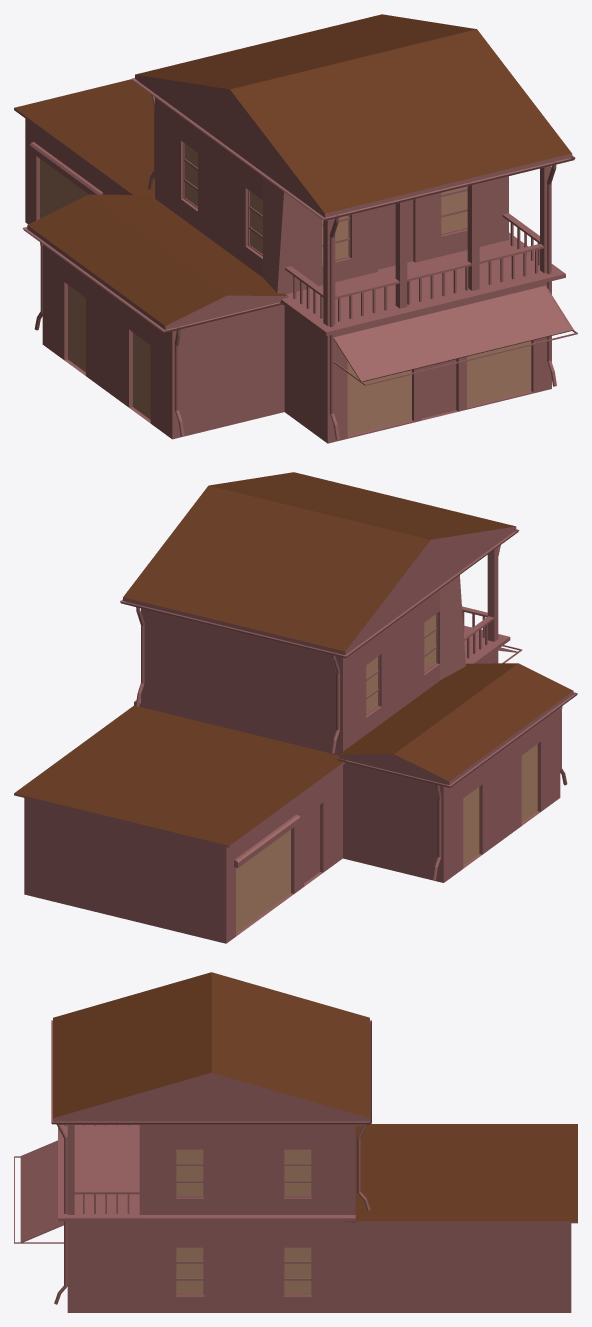
Rendered from Building4.fbx.
3 views of the same model, one above another, from view 1: azimuth 30°, elevation 25°; view 2: azimuth 150°, elevation 25°; view 3: azimuth 270°, elevation 25° (orthographic). The views are drawn at different scales.
Visible parts, largest first — view 1: LPBldX13r; view 2: LPBldX13r; view 3: LPBldX13r.
Part boxes in pixels (x1,y1,x2,y2): LPBldX13r: (14,14,577,443); LPBldX13r: (14,472,577,943); LPBldX13r: (14,972,577,1312).
Bounding box in the file's own units: 282 × 217 × 454.
